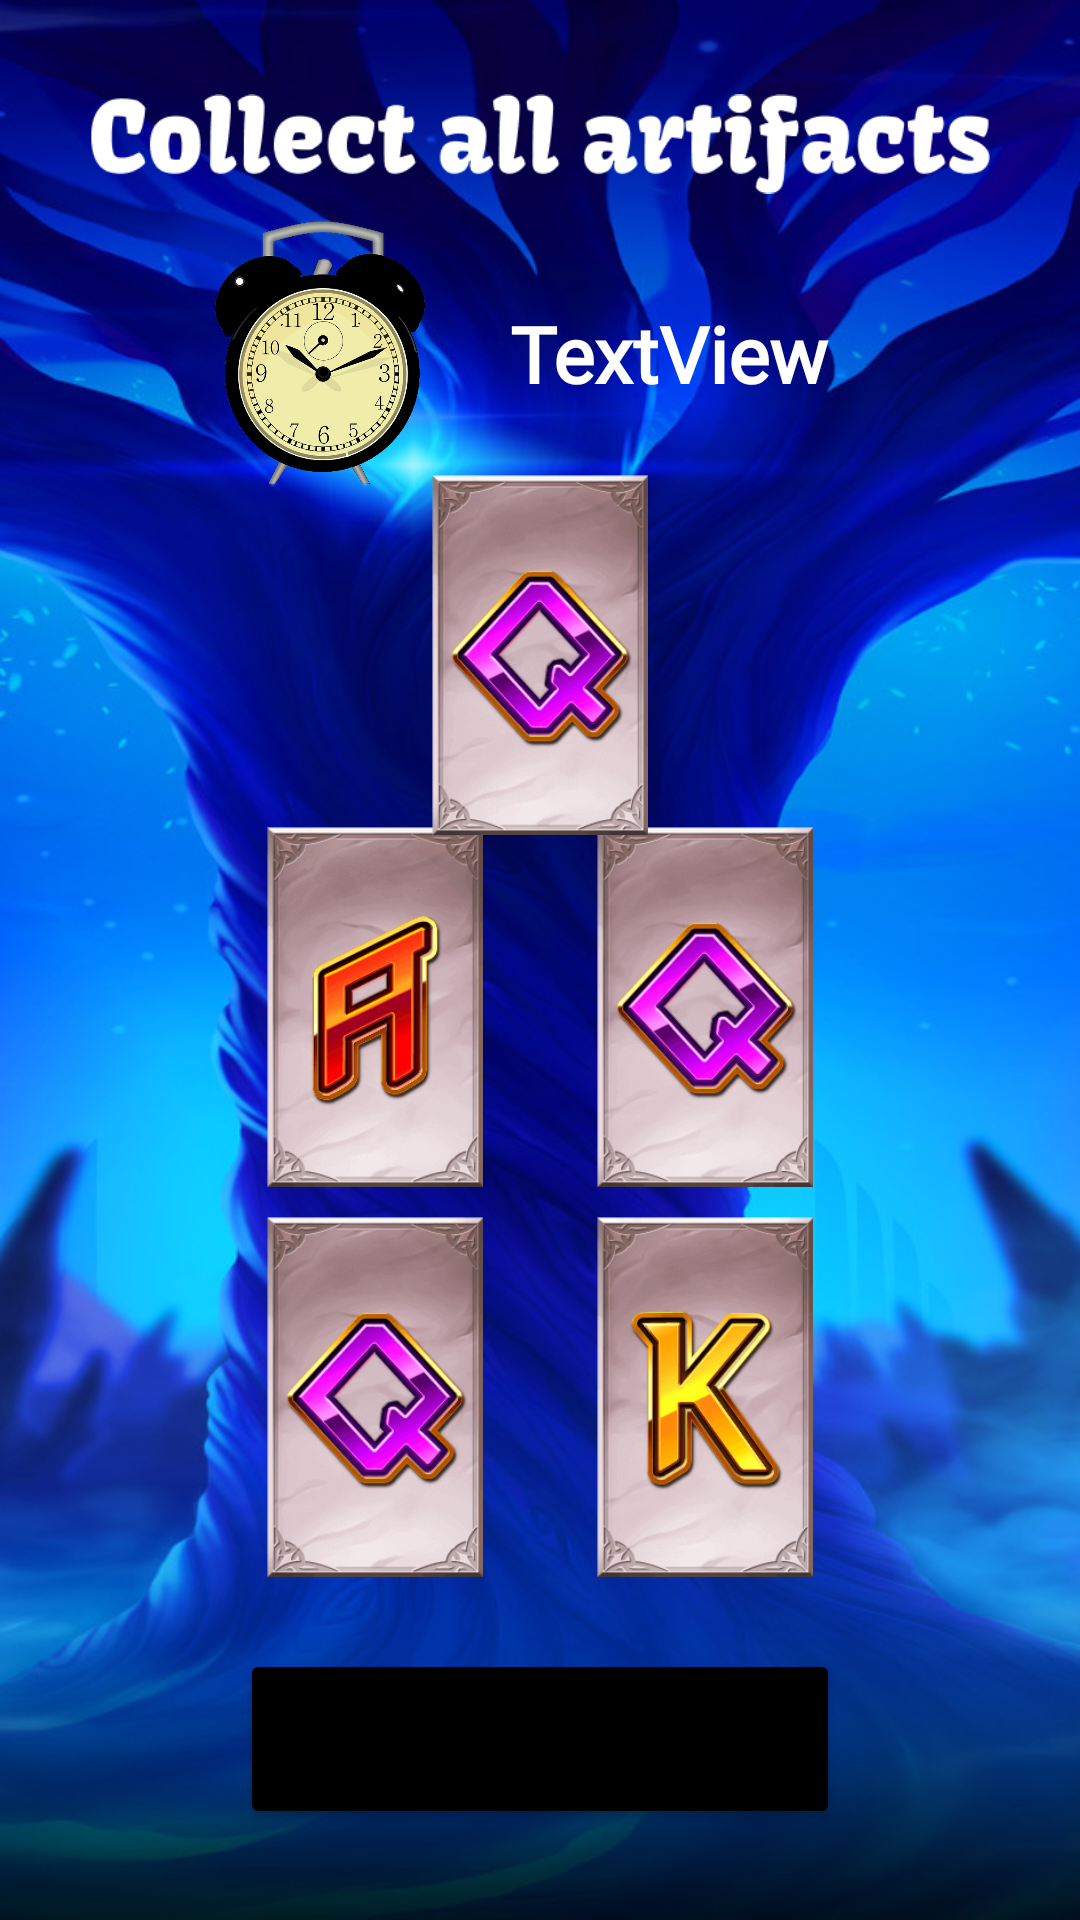

Icon click points for this 1080 × 1920 phone screenshot, format [x,y]:
god time: [320,354]
